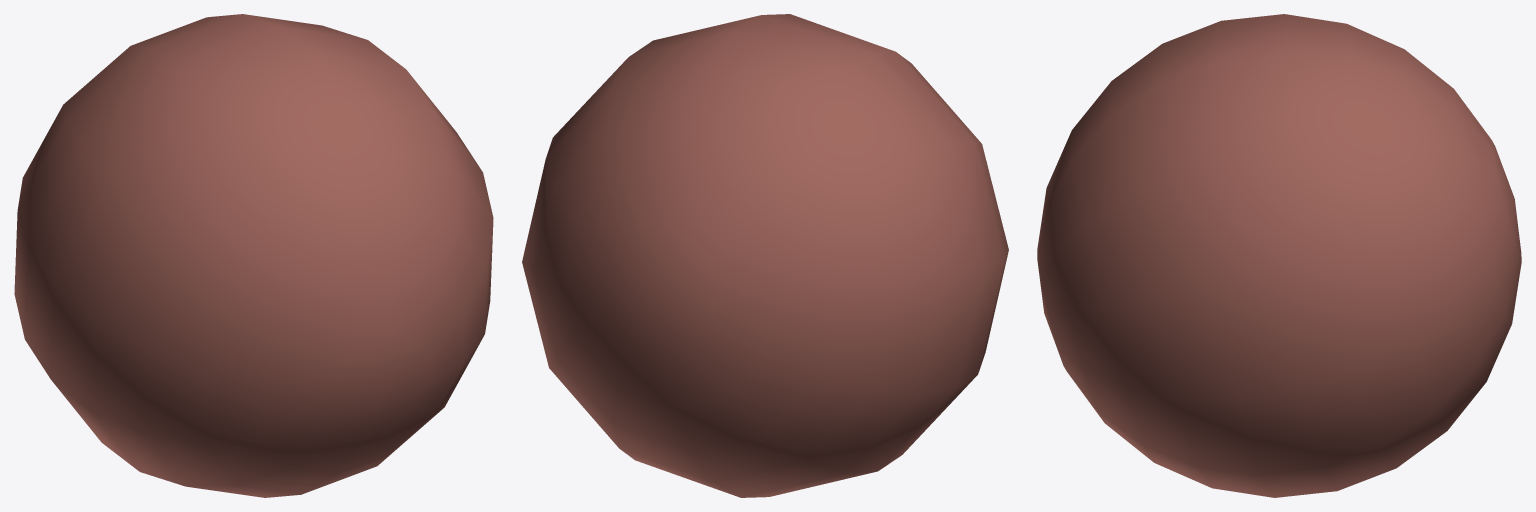
The model's file is mixamo_humanoid_joint_rightHandThumb2.fbx.
3 views of the same model, side by side, from view 1: azimuth 30°, elevation 25°; view 2: azimuth 150°, elevation 25°; view 3: azimuth 270°, elevation 25° (orthographic).
Visible parts, largest first — view 1: joint_RightHandThumb2; view 2: joint_RightHandThumb2; view 3: joint_RightHandThumb2.
Boxes of the visible parts, x1,y1,x2,y2 form: joint_RightHandThumb2: (14, 14, 493, 497); joint_RightHandThumb2: (522, 14, 1008, 497); joint_RightHandThumb2: (1037, 14, 1521, 497).
Bounding box in the file's own units: 2.19 × 2.19 × 2.21.
